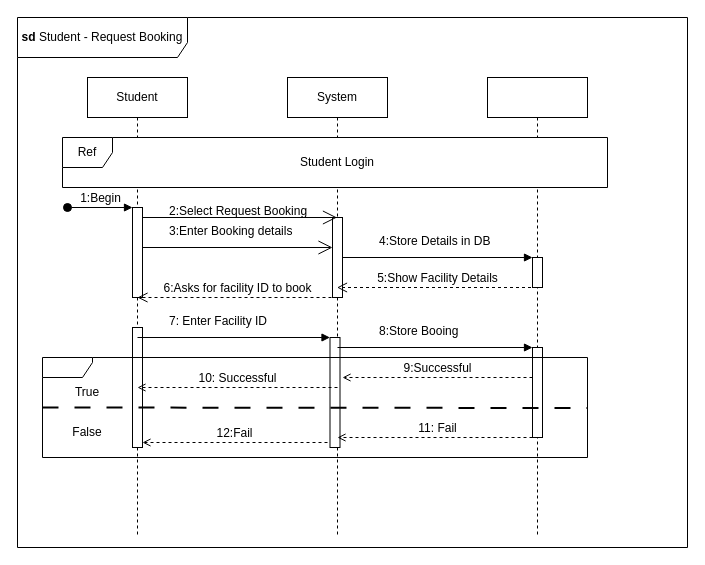
The diagram is 705 pixels wide and 565 high, and some of its shapes have lost their labels. Each missing label, with the centre of its shape:
"alt" goes at (315,407).
"Database" goes at (537,307).
